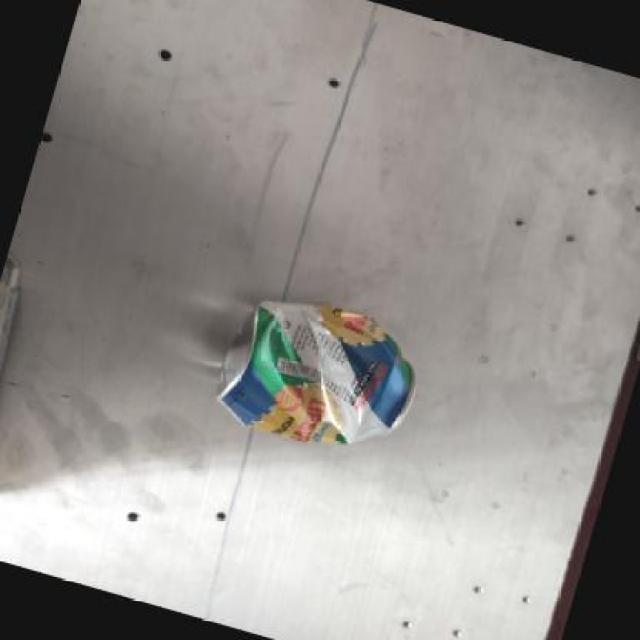recyclable: (192, 262, 450, 484)
